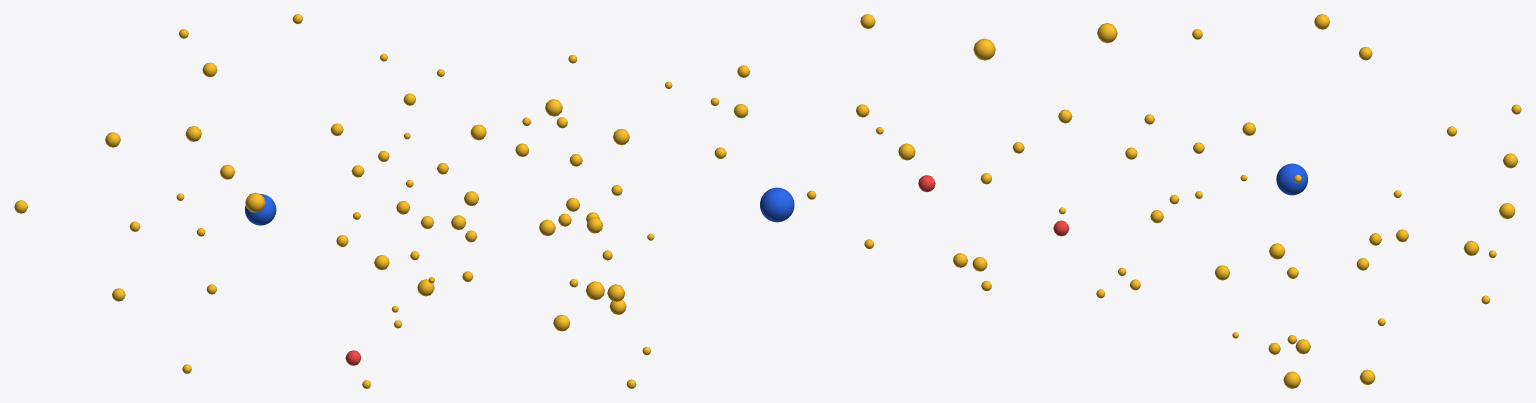
3 renders of one model, left to right at view 1: azimuth 30°, elevation 25°; view 2: azimuth 150°, elevation 25°; view 3: azimuth 270°, elevation 25°, orthographic. The views are drawn at different scales.
Bounding box in the file's own units: 31.33 × 16.52 × 29.54.
